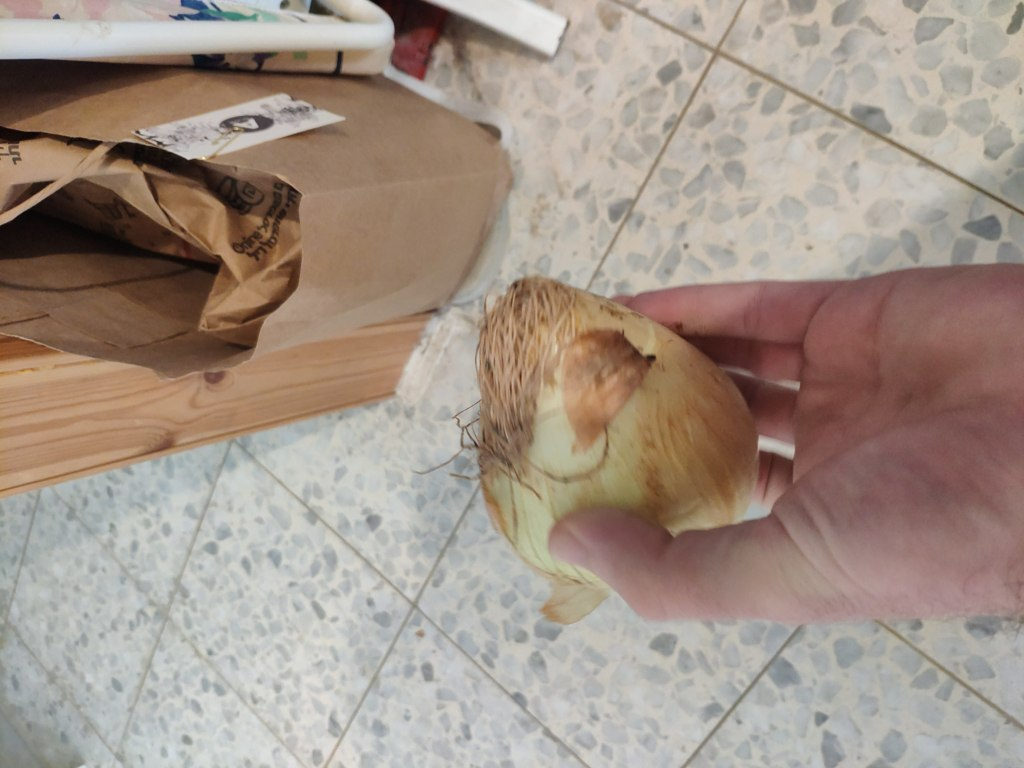Onion: (440, 272, 781, 607)
